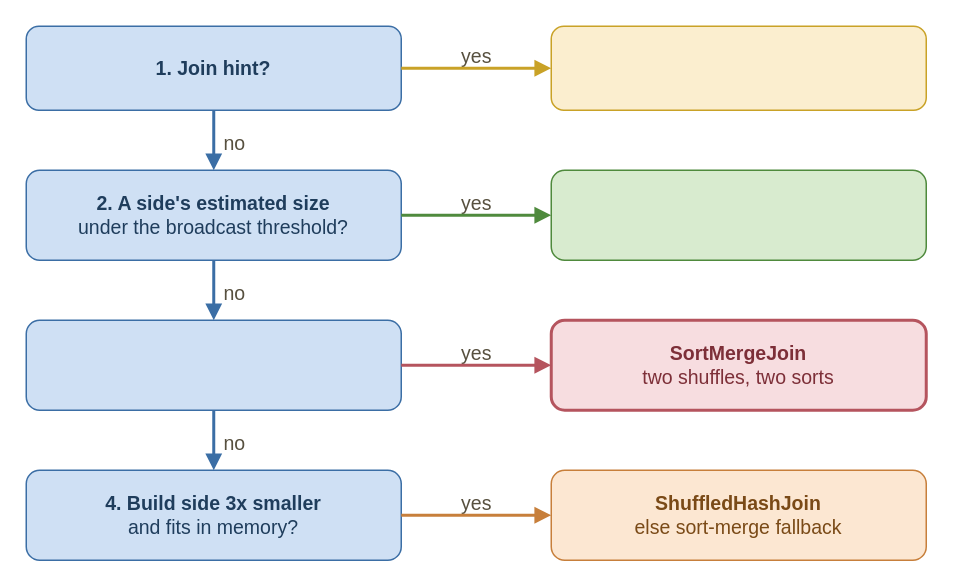
This 954x587 diagram has some shape labels left out. Here are the shapes that lost their labels. From the top down, the box of each, then its label:
(550, 25, 926, 110): use the hinted strategy
(550, 169, 926, 260): BroadcastHashJoin no shuffle of the big side
(25, 319, 401, 410): 3. Prefer sort-merge and keys sortable?
